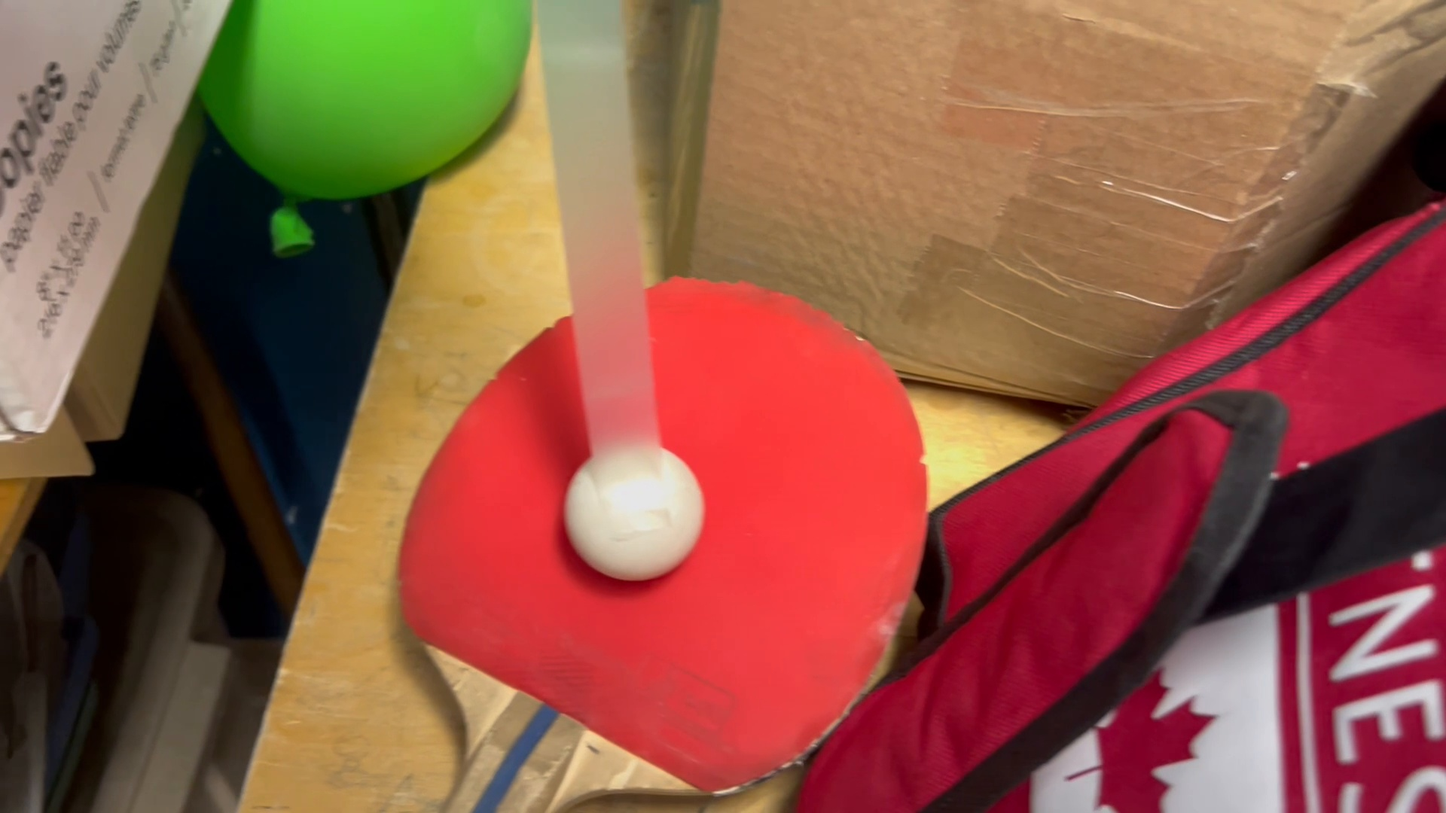Ball: (558, 448, 712, 572)
